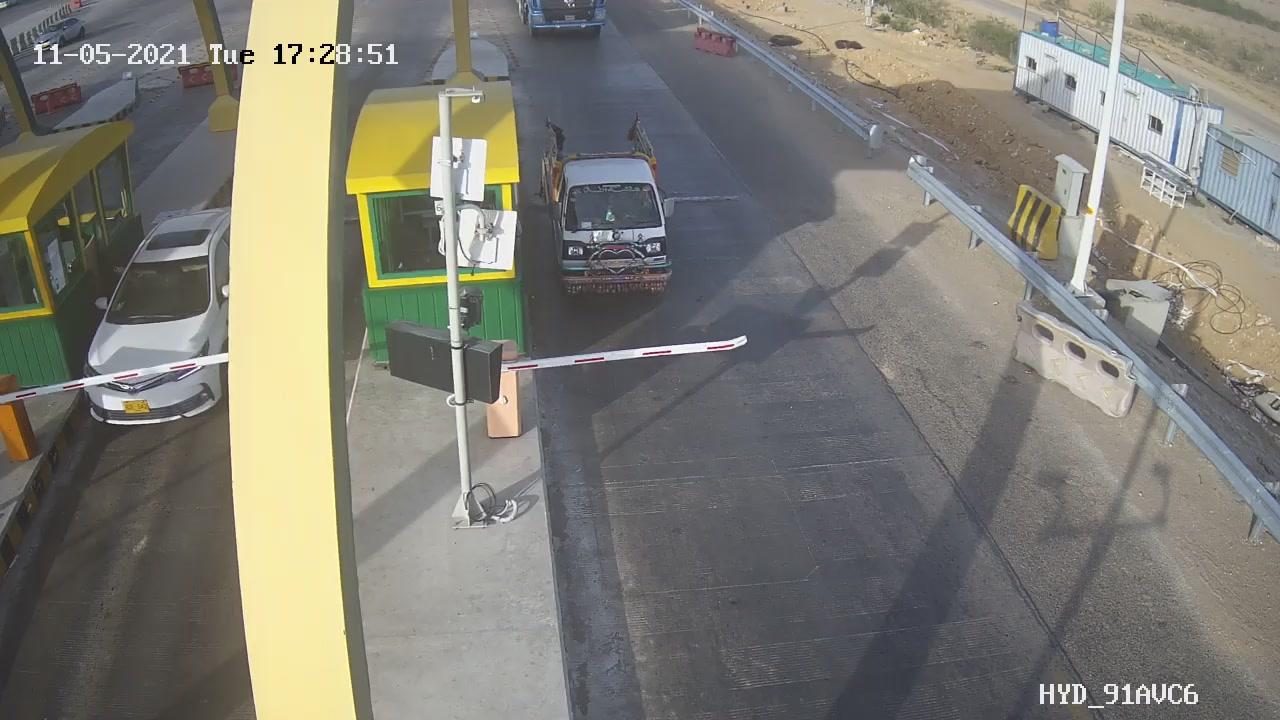F1: (533, 124, 702, 318)
